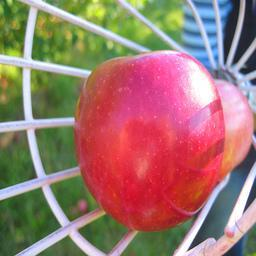apple: (74, 50, 226, 231)
